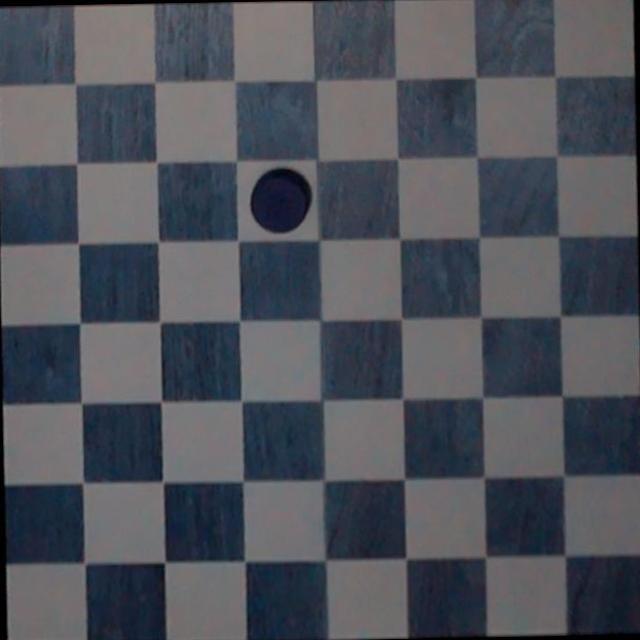BOARD: (0, 0, 640, 640)
black: (247, 156, 314, 238)
